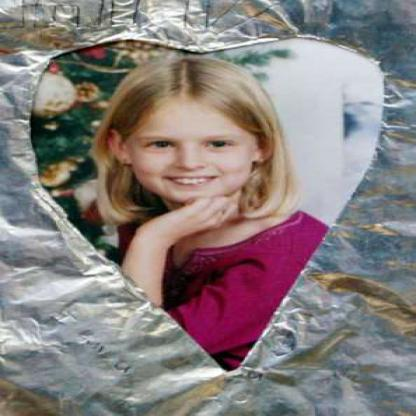face: (126, 68, 261, 205)
